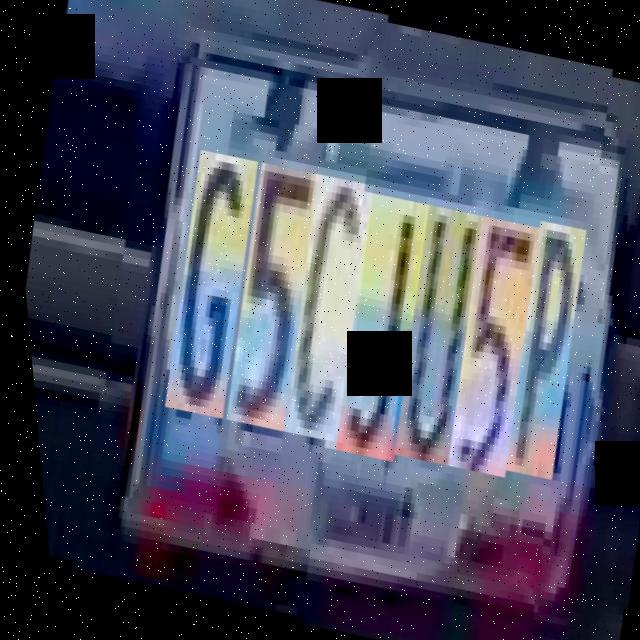5: (200, 162, 334, 432), (424, 208, 554, 470)
C: (258, 174, 388, 444)
G: (140, 148, 274, 420)
J: (311, 184, 445, 456)
P: (481, 212, 601, 473)
U: (371, 196, 497, 458)
